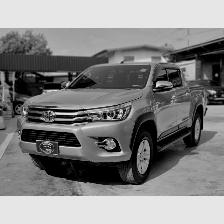NON-EV: (18, 59, 210, 187)
